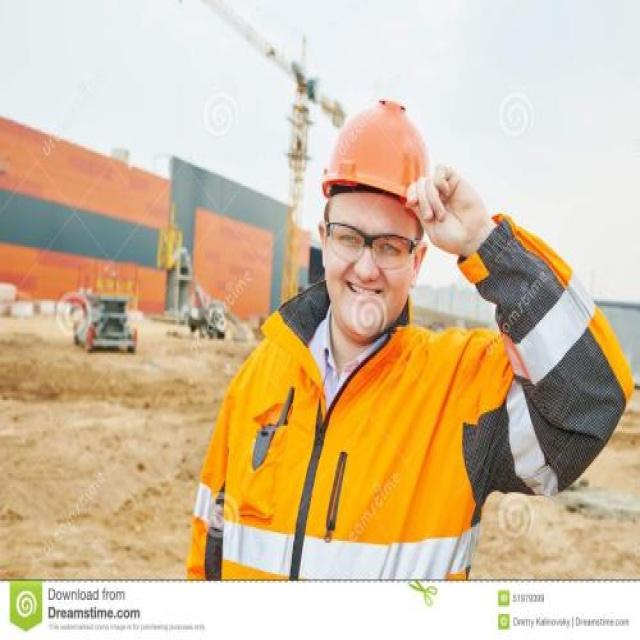helmet: (300, 115, 449, 461)
vest: (179, 376, 593, 640)
